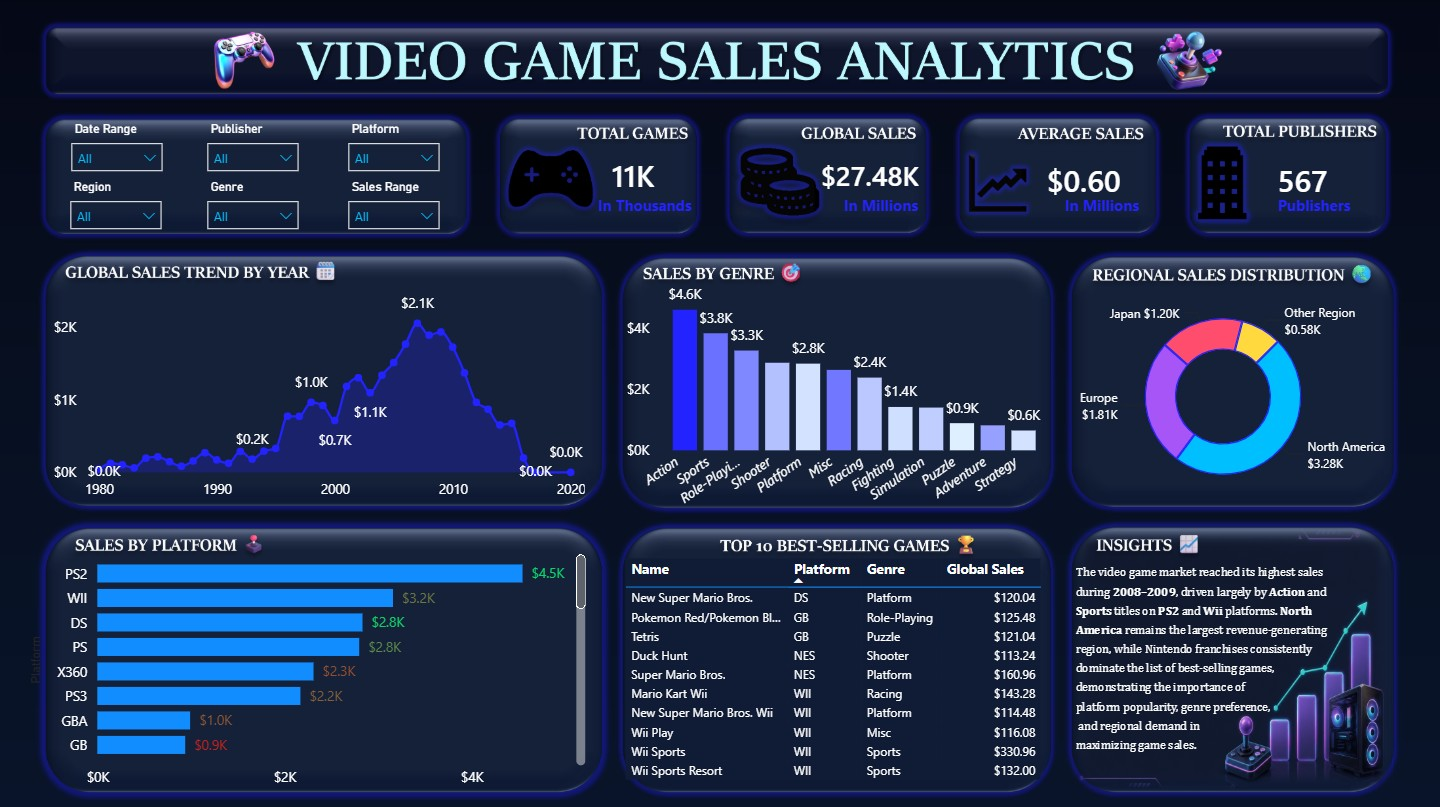

Layout of this report page (visuals, bound fields, positions):
{"tool":"powerbi","page":{"name":"Page 1","canvas":[1280,720],"ordinal":0},"visuals":[{"type":"cardVisual","fields":{"Data":["Measure.Total Games"]},"box":[515.2,117.9,111.7,72.7],"z":0},{"type":"cardVisual","fields":{"Data":["Measure.Total Publishers"]},"box":[1105.7,122.4,132.1,72.7],"z":1000},{"type":"cardVisual","fields":{"Data":["Measure.Avg Sales per Game"]},"box":[900.9,122.4,182.7,72.7],"z":2000},{"type":"cardVisual","fields":{"Data":["Measure.Total Global Sales"]},"box":[700.5,117.9,161.4,72.7],"z":3000},{"type":"lineChart","fields":{"Y":["Measure.Total Global Sales"],"Category":["Year Table.Year"]},"box":[44.3,243.8,481.5,208.4],"z":4000},{"type":"columnChart","fields":{"Category":["cleaned_vgsales.Genre"],"Y":["Measure.Total Global Sales"]},"box":[552.4,236.7,383.9,222.6],"z":5000},{"type":"textbox","box":[526.7,168.5,100.2,38.1],"z":6000},{"type":"textbox","box":[940.8,168.5,100.2,38.1],"z":7000},{"type":"textbox","box":[744.8,168.5,100.2,38.1],"z":8000},{"type":"textbox","box":[1129.7,168.5,100.2,38.1],"z":9000},{"type":"donutChart","fields":{"Category":["cleaned_vgsales.Region"],"Y":["Sum(cleaned_vgsales.Regional Sales)"]},"box":[931,254.5,310.3,194.2],"z":10000},{"type":"barChart","fields":{"Category":["cleaned_vgsales.Platform"],"Y":["Measure.Total Global Sales"]},"box":[23.1,478.8,502.8,228.8],"z":11000},{"type":"tableEx","fields":{"Values":["cleaned_vgsales.Name","cleaned_vgsales.Platform","cleaned_vgsales.Genre","Measure.Total Global Sales"]},"box":[552.5,492.2,388.1,210.1],"z":12000},{"type":"slicer","fields":{"Values":["cleaned_vgsales.Publisher"]},"box":[175.6,102.9,101.1,62.1],"z":13000},{"type":"slicer","fields":{"Values":["Year Table.Year"]},"box":[55,102.9,101.1,62.1],"z":14000},{"type":"slicer","fields":{"Values":["cleaned_vgsales.Platform"]},"box":[300.6,102.9,101.1,62.1],"z":15000},{"type":"slicer","fields":{"Values":["cleaned_vgsales.Region"]},"box":[54.1,154.3,101.1,62.1],"z":16000},{"type":"slicer","fields":{"Values":["cleaned_vgsales.Genre"]},"box":[175.6,154.3,101.1,62.1],"z":17000},{"type":"slicer","fields":{"Values":["cleaned_vgsales.Sales Range"]},"box":[300.6,154.3,101.1,62.1],"z":18000},{"type":"textbox","box":[950.5,492.1,237.6,210.1],"z":19000}]}

Visuals, with their boxes in screenshot pixels (x1, y1, x2, y2), scaled from the page's 1280x720 canvas onto the 1440x807 screenshot:
cardVisual - Measure.Total Games: 580 132 705 214
cardVisual - Measure.Total Publishers: 1244 137 1393 219
cardVisual - Measure.Avg Sales per Game: 1014 137 1219 219
cardVisual - Measure.Total Global Sales: 788 132 970 214
lineChart - Measure.Total Global Sales x Year Table.Year: 50 273 592 507
columnChart - cleaned_vgsales.Genre x Measure.Total Global Sales: 621 265 1053 515
textbox: 593 189 705 232
textbox: 1058 189 1171 232
textbox: 838 189 951 232
textbox: 1271 189 1384 232
donutChart - cleaned_vgsales.Region x Sum(cleaned_vgsales.Regional Sales): 1047 285 1396 503
barChart - cleaned_vgsales.Platform x Measure.Total Global Sales: 26 537 592 793
tableEx - cleaned_vgsales.Name x cleaned_vgsales.Platform: 622 552 1058 787
slicer - cleaned_vgsales.Publisher: 198 115 311 185
slicer - Year Table.Year: 62 115 176 185
slicer - cleaned_vgsales.Platform: 338 115 452 185
slicer - cleaned_vgsales.Region: 61 173 175 243
slicer - cleaned_vgsales.Genre: 198 173 311 243
slicer - cleaned_vgsales.Sales Range: 338 173 452 243
textbox: 1069 552 1337 787
